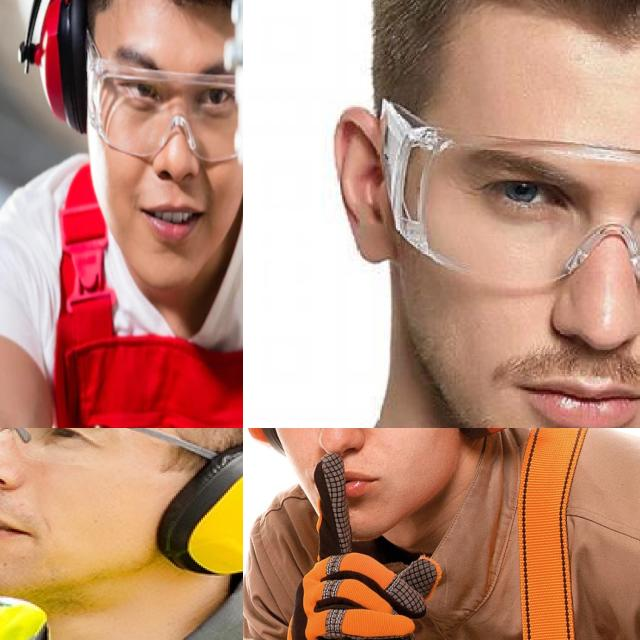Ear-protection: (27, 0, 243, 282), (243, 428, 552, 528), (156, 428, 243, 585)
No_Ear-Protection: (331, 105, 401, 264)
face_mask: (379, 96, 640, 313)
face_nomask: (465, 151, 640, 428)
glasses: (77, 37, 243, 168), (0, 428, 217, 465)
person: (0, 0, 243, 428), (243, 428, 640, 640)
